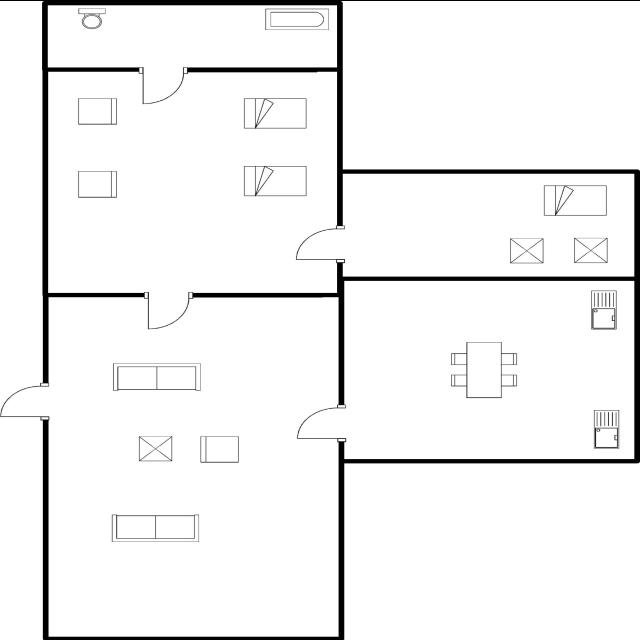bed: (239, 94, 312, 132), (540, 180, 612, 218), (239, 162, 309, 198)
coffee_table: (134, 432, 177, 464), (505, 235, 549, 265), (570, 235, 610, 268)
dining_table: (446, 338, 522, 401)
large_sink: (75, 7, 112, 33)
large_sofa: (106, 510, 204, 546), (106, 360, 206, 393)
sink: (587, 287, 621, 333), (590, 406, 622, 452)
small_sofa: (74, 94, 122, 127), (196, 432, 242, 466), (74, 168, 122, 200)
tub: (259, 6, 332, 34)
